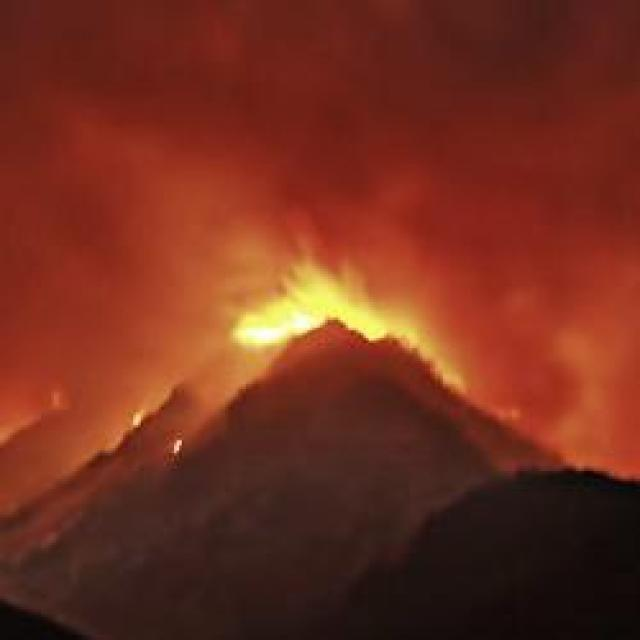Fire: (241, 255, 438, 395), (123, 398, 151, 431), (162, 432, 186, 461)
Smoke: (15, 0, 630, 476)
